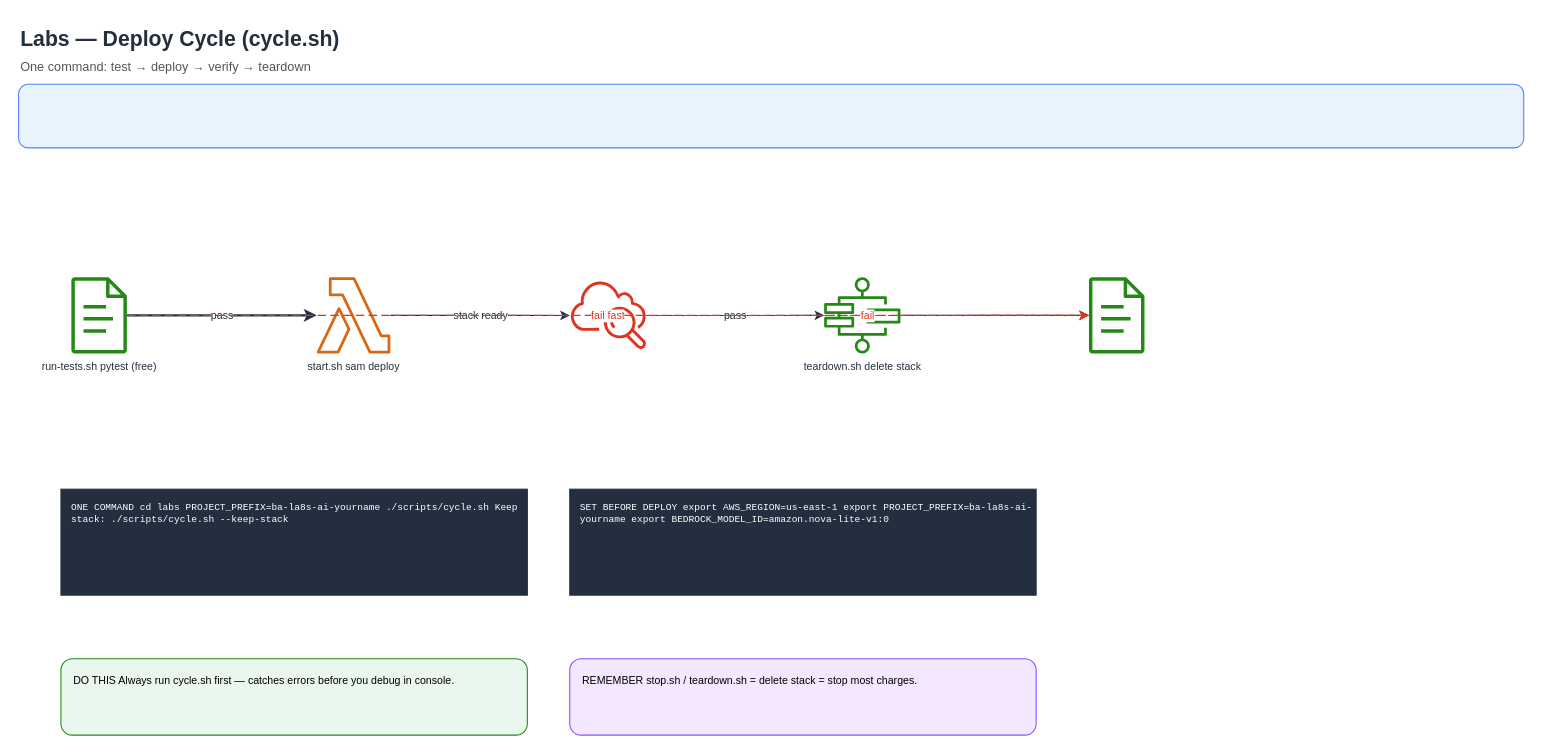
This 1542x754 diagram has some shape labels left out. The centre of each missing label's shape, as x and y in pixels:
"Done no ongoing cost" belongs at pixel 1116 315.
"verify.sh integration" belongs at pixel 607 315.
"YOUR GOAL Understand the full lab lifecycle before your first AWS deploy." belongs at pixel 770 115.
